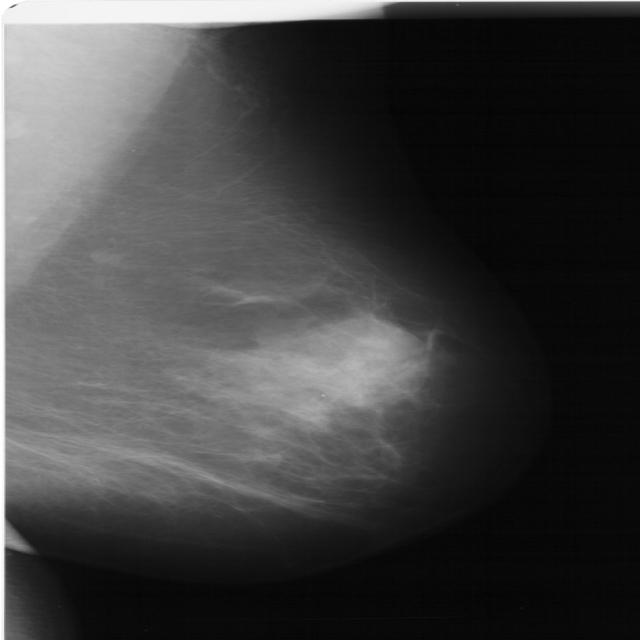tumour: (329, 316, 420, 359)
